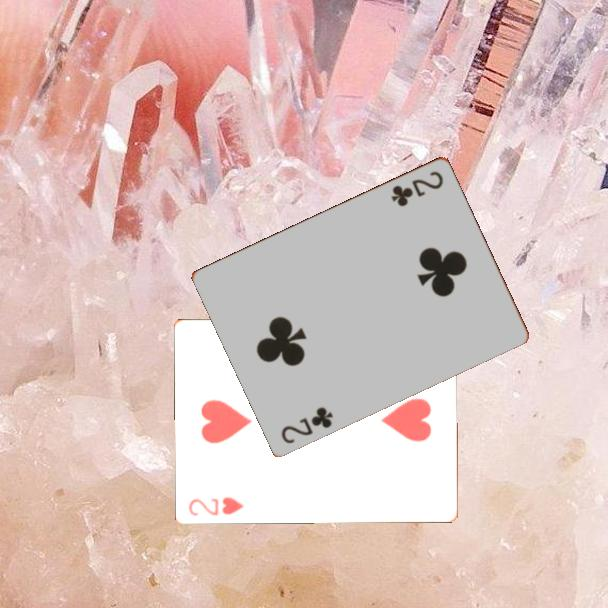c02: (277, 403, 336, 446), (387, 167, 446, 209)
h02: (185, 493, 247, 518)
